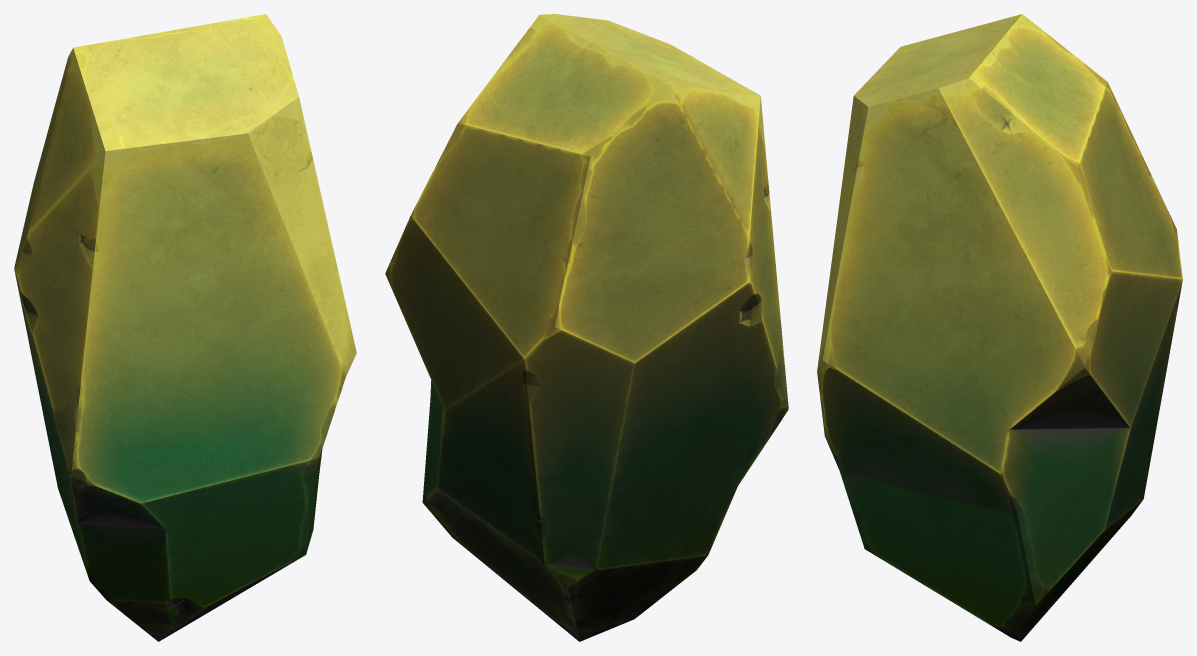
Rendered from berg3.glb.
The picture shows the model from 3 angles, left to right: view 1: azimuth 30°, elevation 25°; view 2: azimuth 150°, elevation 25°; view 3: azimuth 270°, elevation 25°; orthographic projection. The views are drawn at different scales.
Parts seen in each view (by area): view 1: L_Rock_03; view 2: L_Rock_03; view 3: L_Rock_03.
Boxes of the visible parts, x1=… form: L_Rock_03: x1=14, y1=14, x2=356, y2=641; L_Rock_03: x1=385, y1=14, x2=788, y2=641; L_Rock_03: x1=817, y1=14, x2=1182, y2=641.
Bounding box in the file's own units: 1.49 × 2.62 × 1.46.
Materials: 1 (1 with a texture image).
